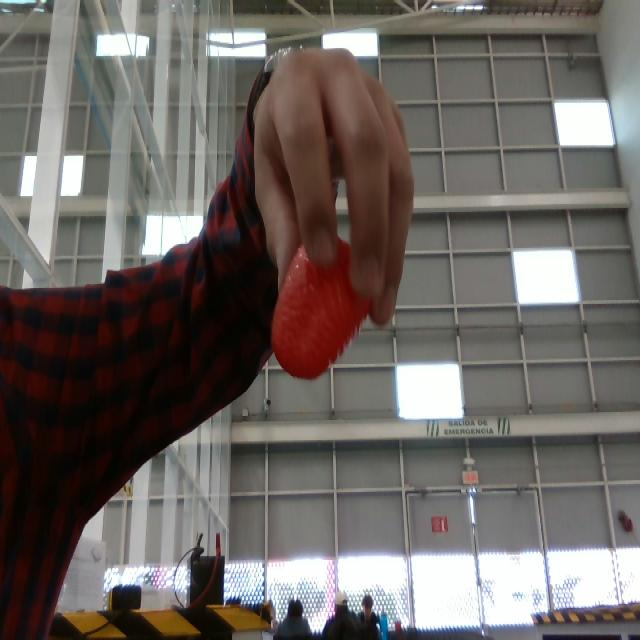grande_roja: (272, 240, 370, 379)
